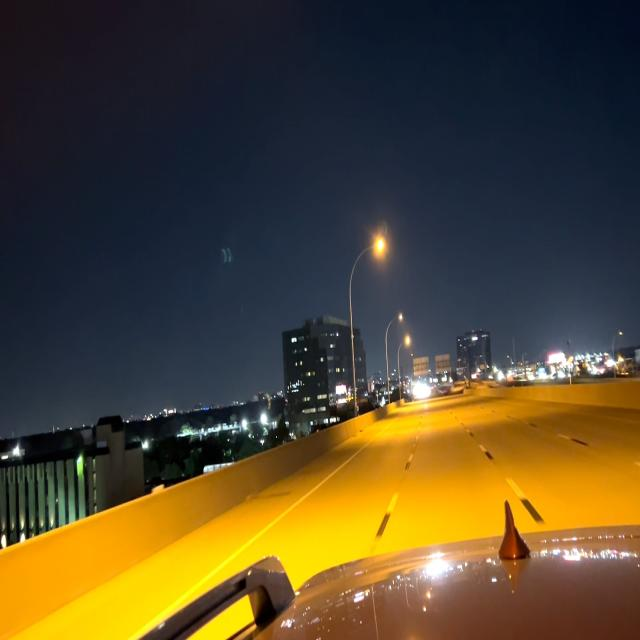back-of-sign: (437, 352, 452, 375), (414, 357, 430, 378)
